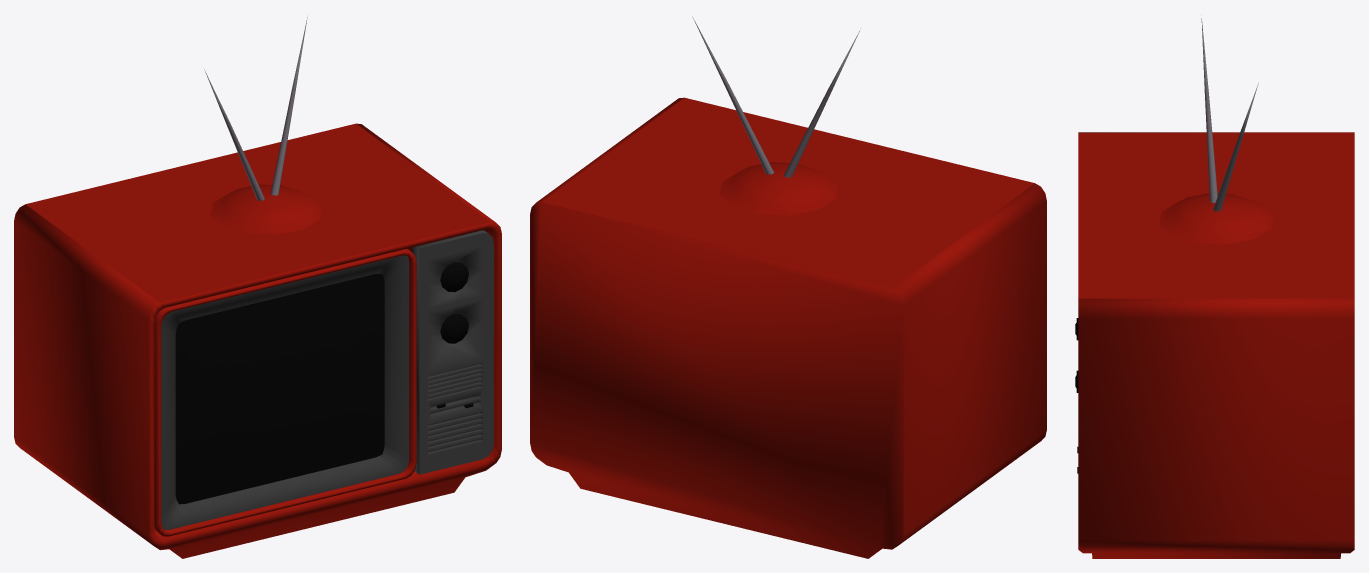
3 views of the same model, side by side, from view 1: azimuth 30°, elevation 25°; view 2: azimuth 150°, elevation 25°; view 3: azimuth 270°, elevation 25° (orthographic). The views are drawn at different scales.
Visible parts, largest first — view 1: TV; view 2: TV; view 3: TV.
Part boxes in pixels (left/top/right/bottom): TV: left=14, top=17, right=501, bottom=558; TV: left=530, top=16, right=1046, bottom=558; TV: left=1075, top=18, right=1354, bottom=558.
Bounding box in the file's own units: 3.03 × 3.56 × 2.02.
